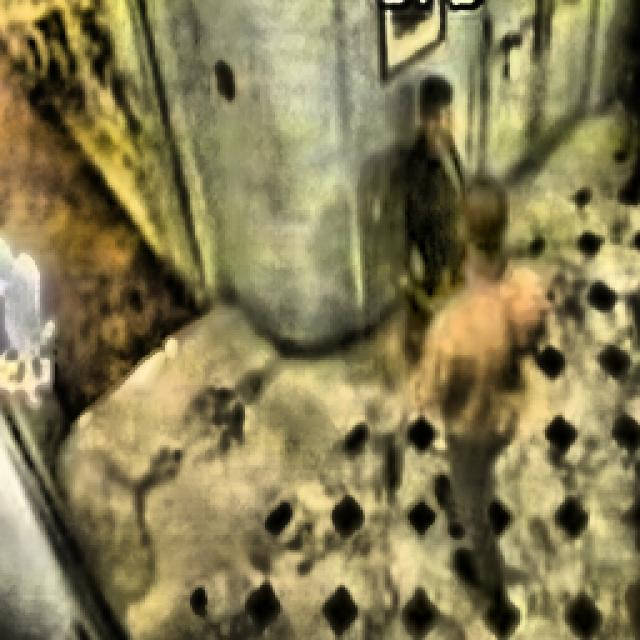Human: (414, 183, 556, 640), (368, 70, 473, 303)
